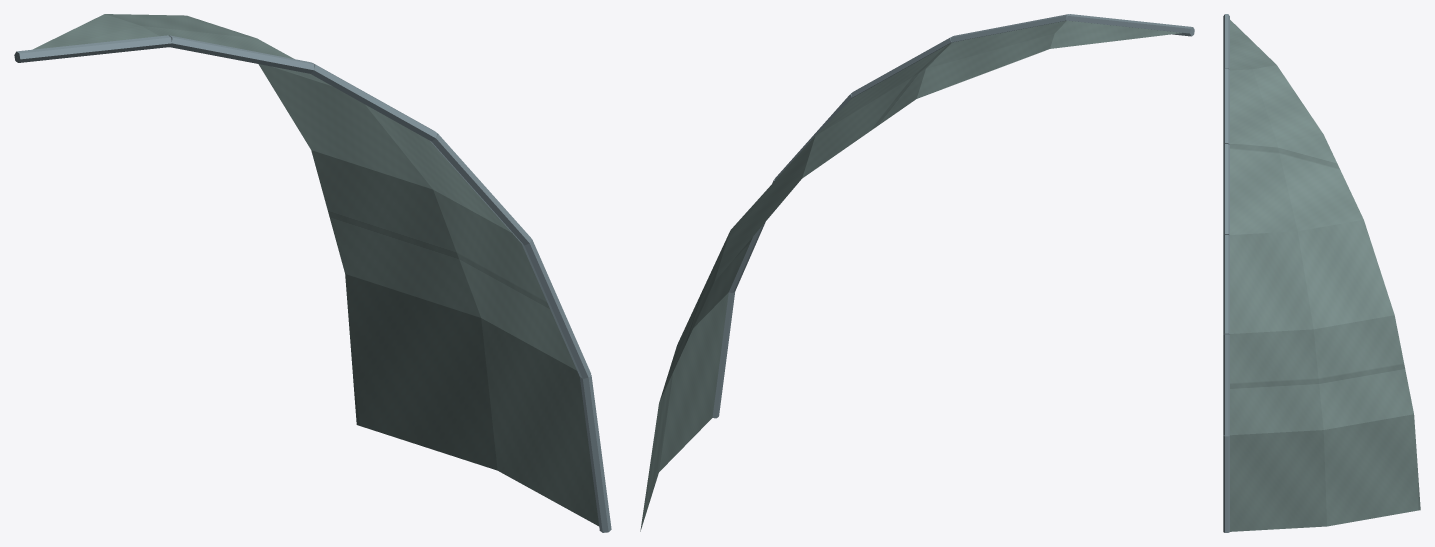
File: Hab_Dome_Sector_30deg.glb
3 views of the same model, side by side, from view 1: azimuth 30°, elevation 25°; view 2: azimuth 150°, elevation 25°; view 3: azimuth 270°, elevation 25° (orthographic). The views are drawn at different scales.
Parts seen in each view (by area): view 1: Hab_Dome_Sector_30deg; view 2: Hab_Dome_Sector_30deg; view 3: Hab_Dome_Sector_30deg.
Part boxes in pixels (<box>): Hab_Dome_Sector_30deg: <box>14,14,611,532</box>; Hab_Dome_Sector_30deg: <box>640,14,1194,531</box>; Hab_Dome_Sector_30deg: <box>1223,14,1420,532</box>.
Size of the model in its own units: 4.03 by 4.03 by 2.04.
Materials: 2 (1 with a texture image).
